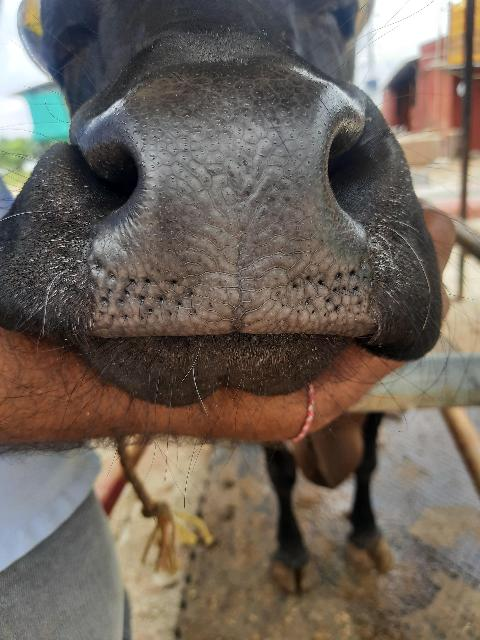Muzzle: (107, 90, 374, 342)
